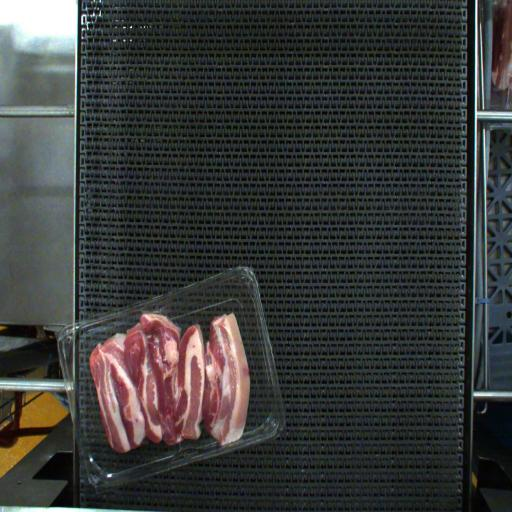packaging-error: (124, 299, 174, 321), (212, 431, 246, 458)
